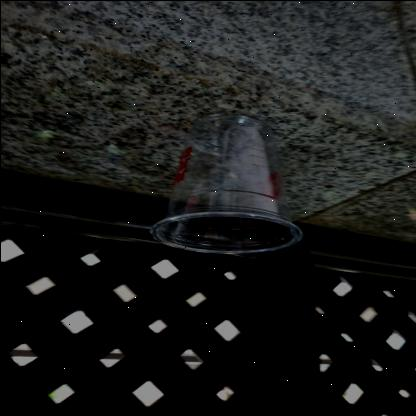Others: (144, 107, 308, 258)
